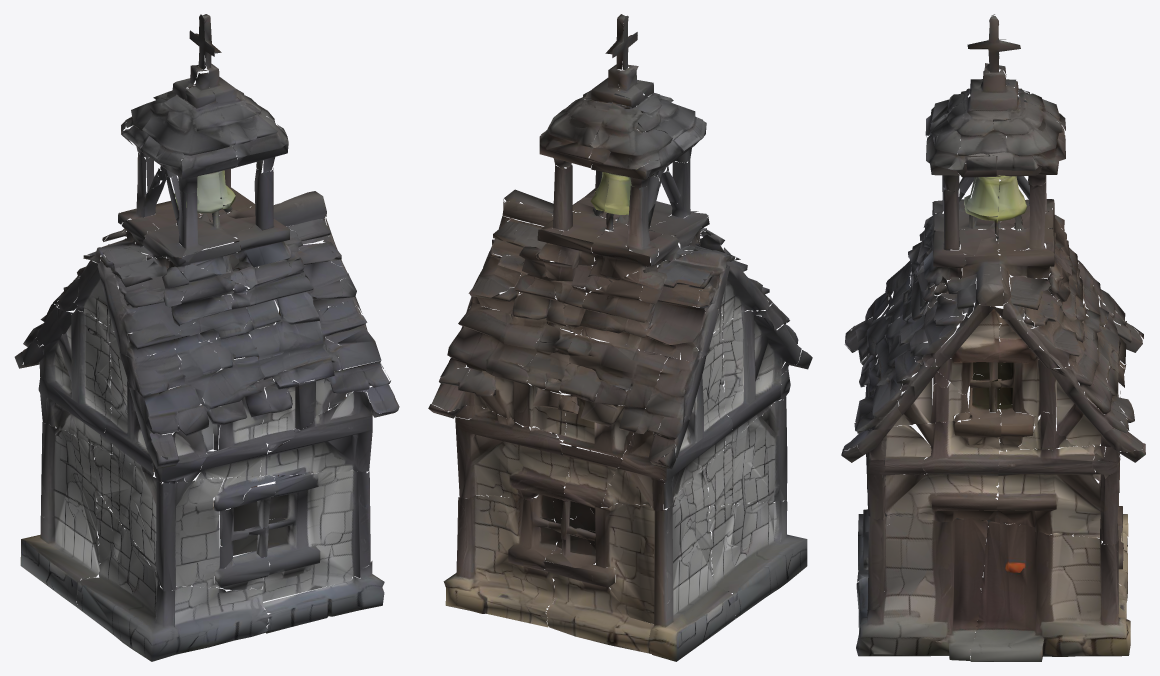
File: bell-tower.glb
3 views of the same model, side by side, from view 1: azimuth 30°, elevation 25°; view 2: azimuth 150°, elevation 25°; view 3: azimuth 270°, elevation 25° (orthographic). The views are drawn at different scales.
Visible parts, largest first — view 1: tripo_node_24e043fc-2e1c-4f34-9f3c-082549e1ebe8; view 2: tripo_node_24e043fc-2e1c-4f34-9f3c-082549e1ebe8; view 3: tripo_node_24e043fc-2e1c-4f34-9f3c-082549e1ebe8.
Part boxes in pixels (x1,y1,x2,y2): tripo_node_24e043fc-2e1c-4f34-9f3c-082549e1ebe8: [14, 14, 399, 661]; tripo_node_24e043fc-2e1c-4f34-9f3c-082549e1ebe8: [428, 14, 812, 661]; tripo_node_24e043fc-2e1c-4f34-9f3c-082549e1ebe8: [841, 14, 1145, 661].
Size of the model in its own units: 3.85 by 8.49 by 4.
1 material, 1 textured.
